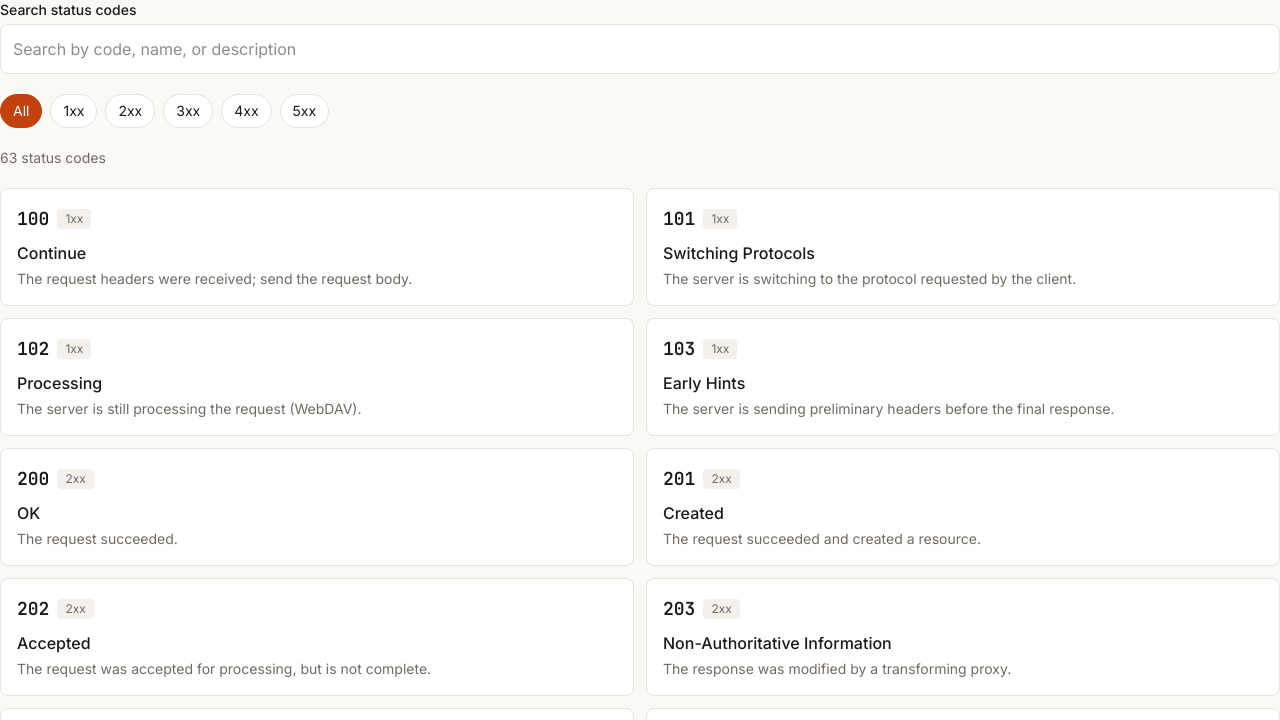
Test: HttpStatusCodes › shows a helpful empty state for an unmatched search
In the search field labelled "Search status codes": (640, 49) [0,24,1279,74], type "not-a-status-code"
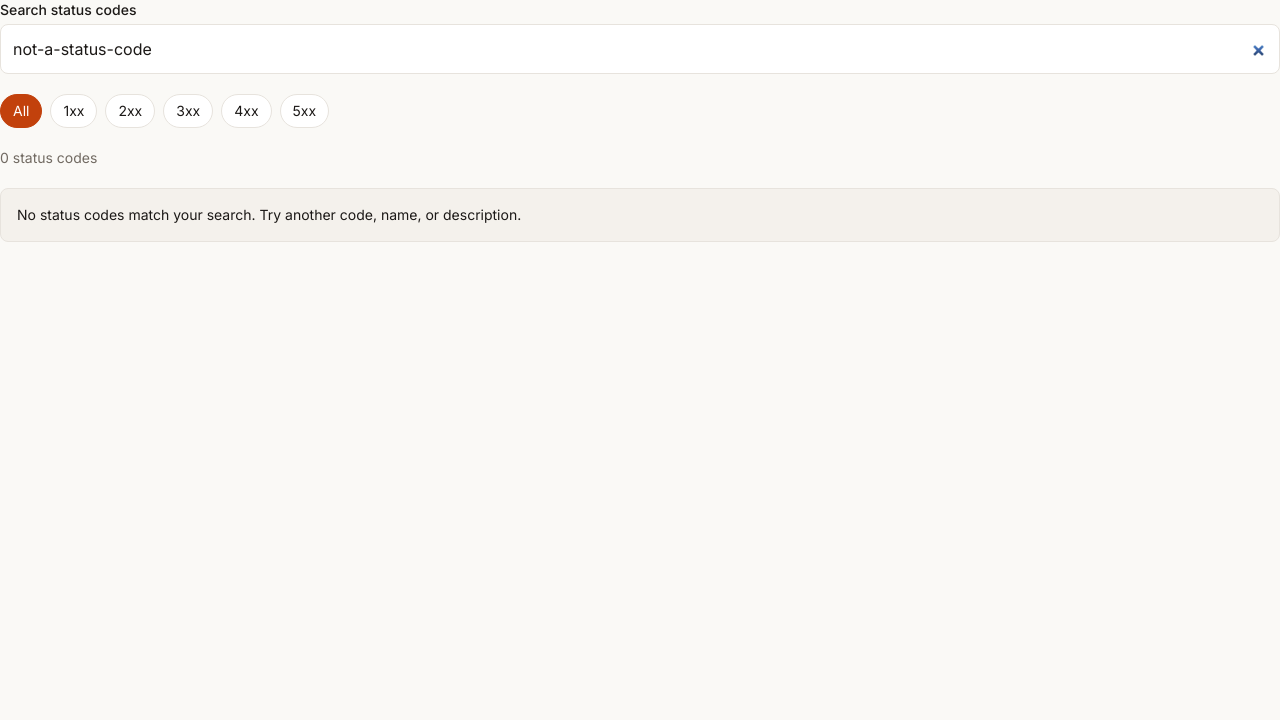
Check: the message shows "No status codes match your search", box [17,206,521,223]
